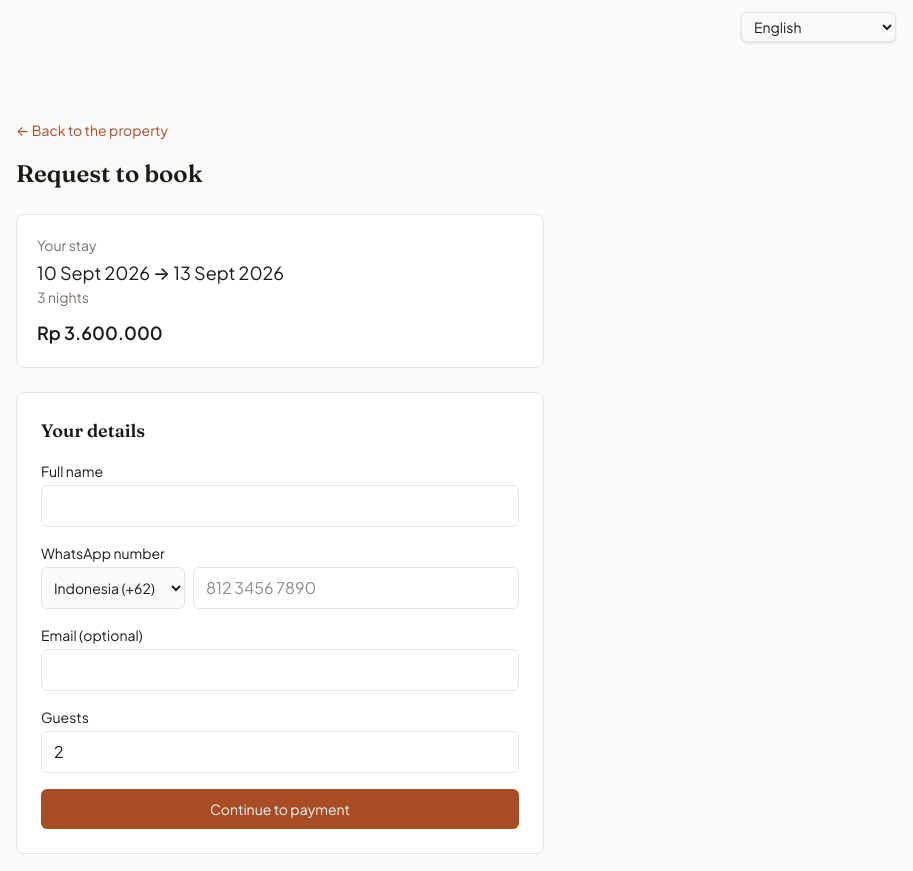
Test: checkout page › sends the guest back to pick dates when the hold lapsed before pay (409)
expect the text "Rp 3.600.000" is shown: met, box x1=37 y1=321 x2=163 y2=344
Step 1. Type "Made A." into the field labelled "Full name" → coordinates (280, 506), box x1=41 y1=485 x2=519 y2=527
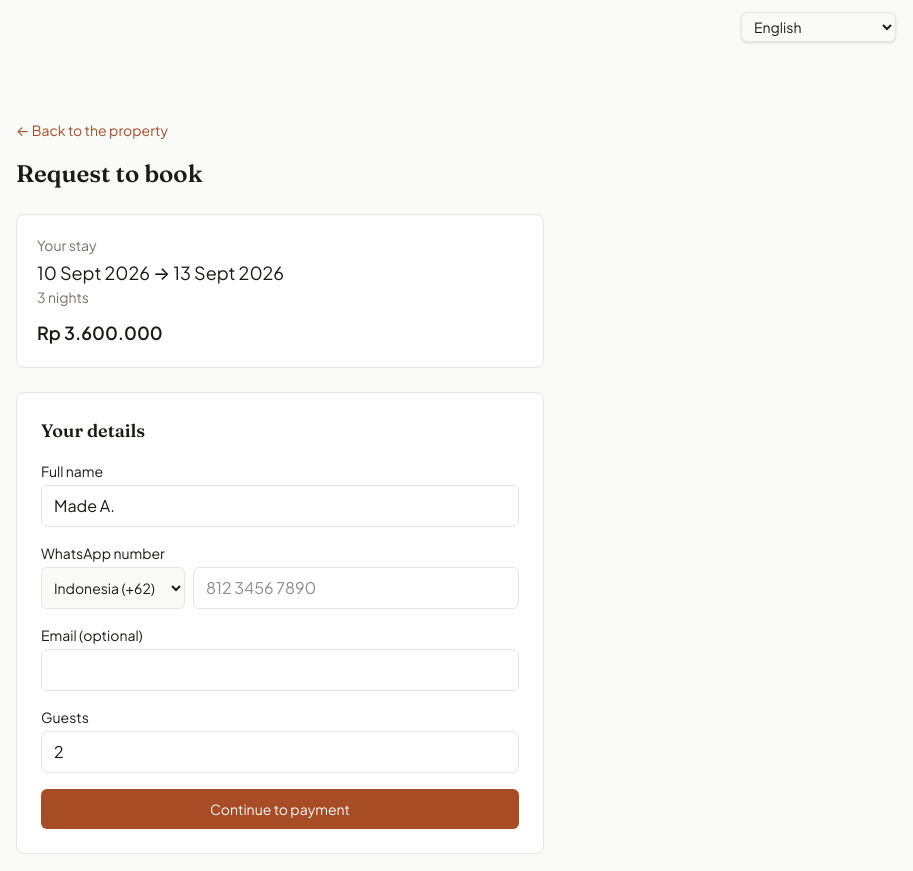
Step 2. Type "0812 3456 7890" into the field labelled "WhatsApp number" → coordinates (356, 588), box x1=193 y1=567 x2=519 y2=609
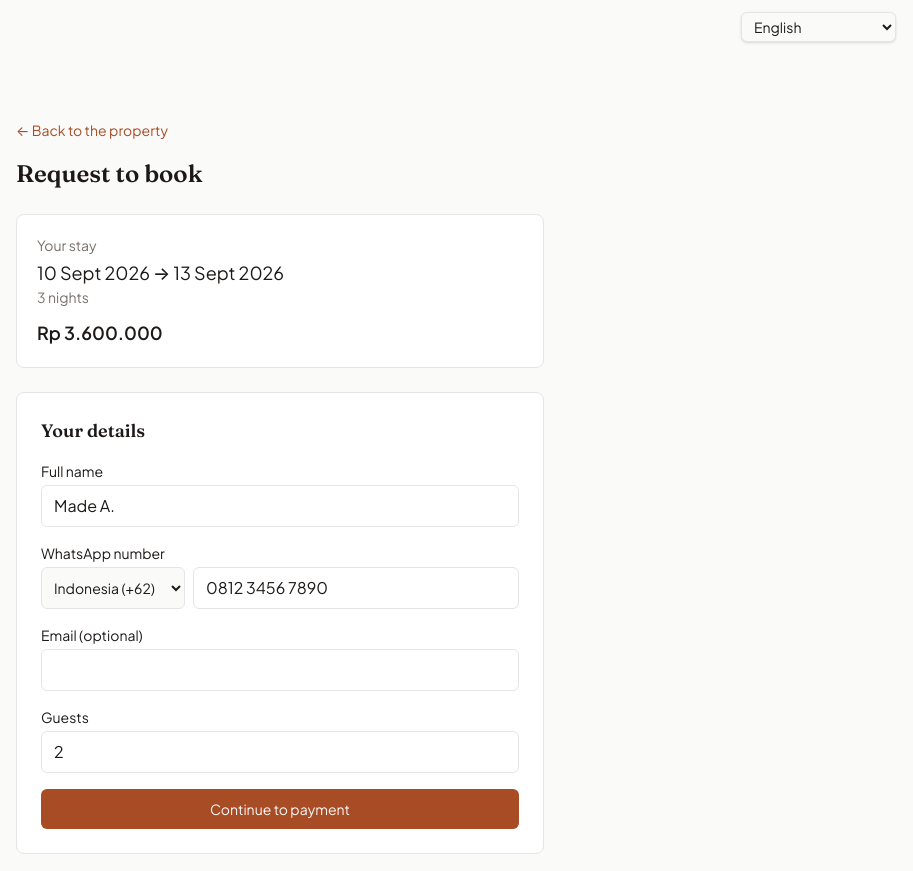
Step 3. Click the button "Continue to payment" → coordinates (280, 809), box x1=41 y1=789 x2=519 y2=829
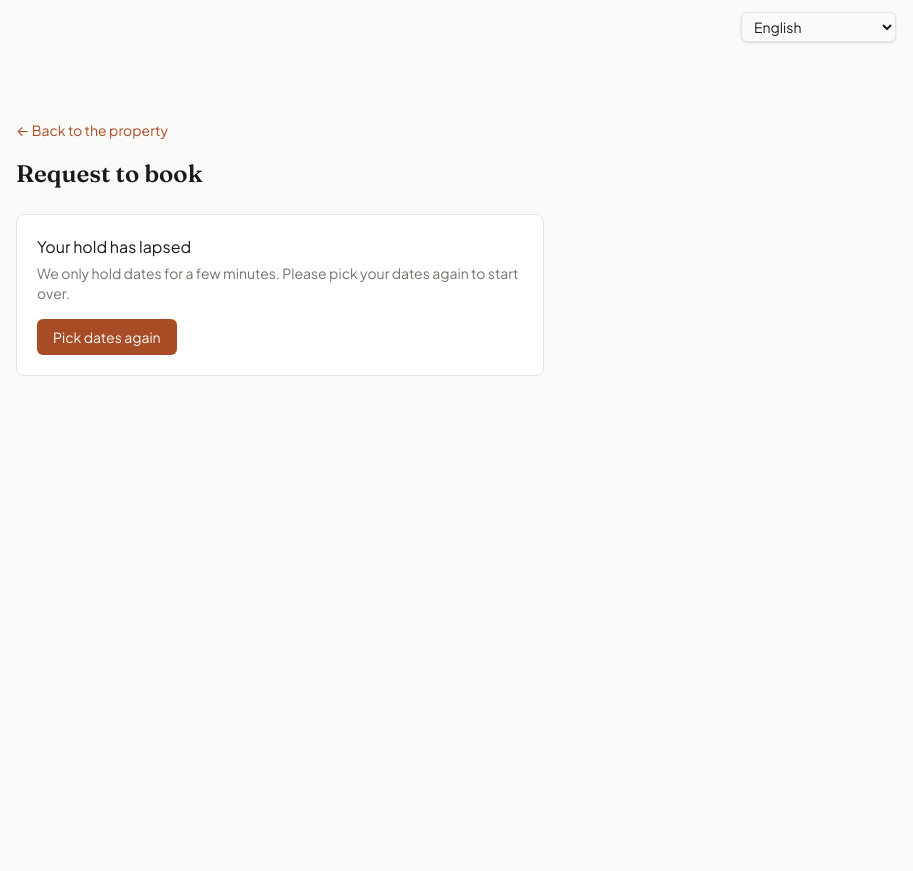
expect the text "Your hold has lapsed" is shown: met, box x1=37 y1=236 x2=191 y2=257
expect the link "Pick dates again" is shown: met, box x1=37 y1=319 x2=177 y2=355
